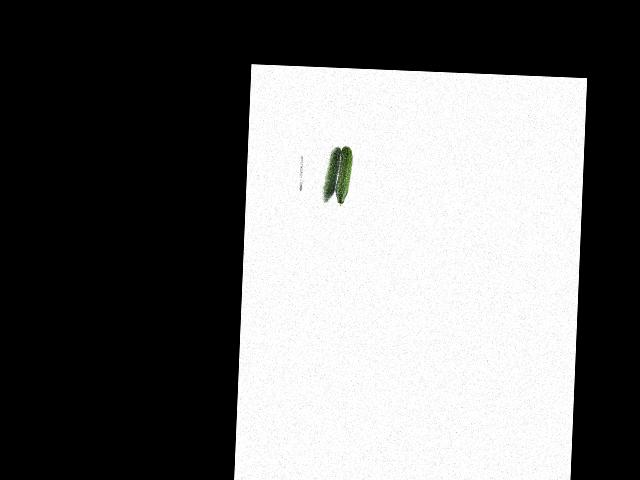cucumber: (334, 146, 352, 206)
